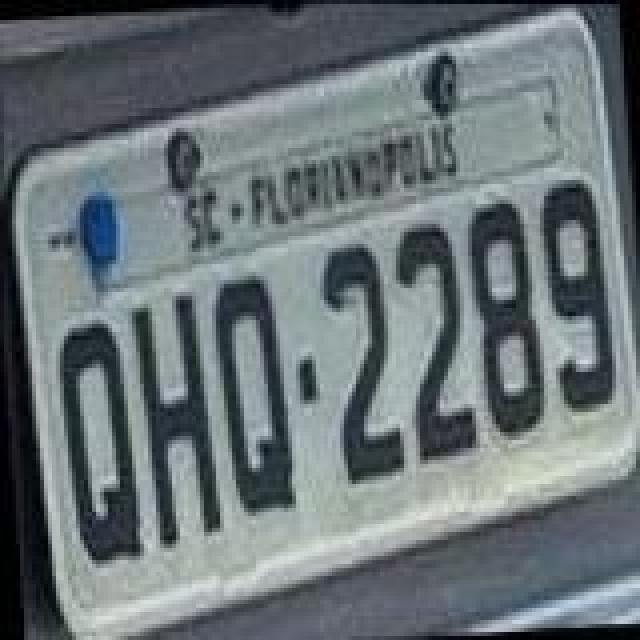2: (318, 240, 406, 484), (390, 216, 478, 460)
8: (462, 194, 550, 442)
9: (536, 172, 620, 412)
H: (132, 294, 224, 558)
Q: (52, 314, 144, 566), (210, 276, 298, 520)
